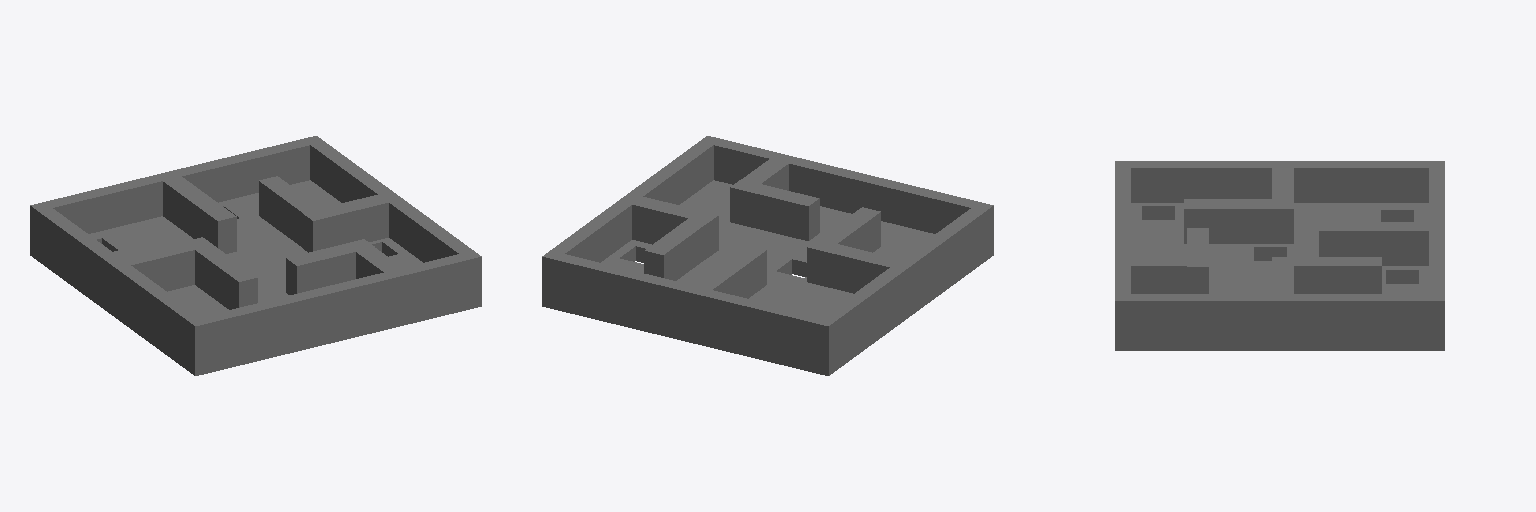
The model's file is mazev2.obj.
3 renders of one model, left to right at view 1: azimuth 30°, elevation 25°; view 2: azimuth 150°, elevation 25°; view 3: azimuth 270°, elevation 25°, orthographic.
Parts seen in each view (by area): view 1: polySurface15; view 2: polySurface15; view 3: polySurface15.
Part boxes in pixels (x1,y1,x2,y2): polySurface15: (30,136,481,375); polySurface15: (542,136,993,375); polySurface15: (1115,161,1444,350).
Bounding box in the file's own units: 30 × 5 × 30.